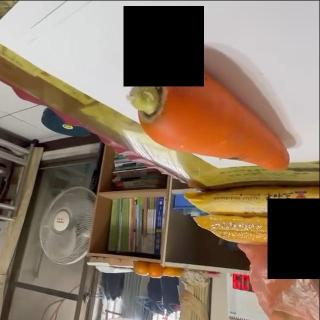carrot: (126, 62, 290, 172)
